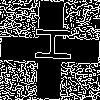H: (25, 25, 72, 63)
